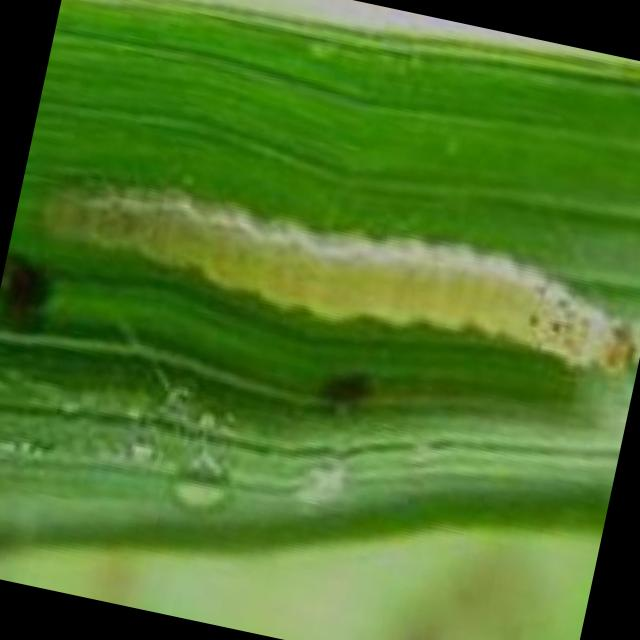leaf-folder: (24, 115, 640, 397)
